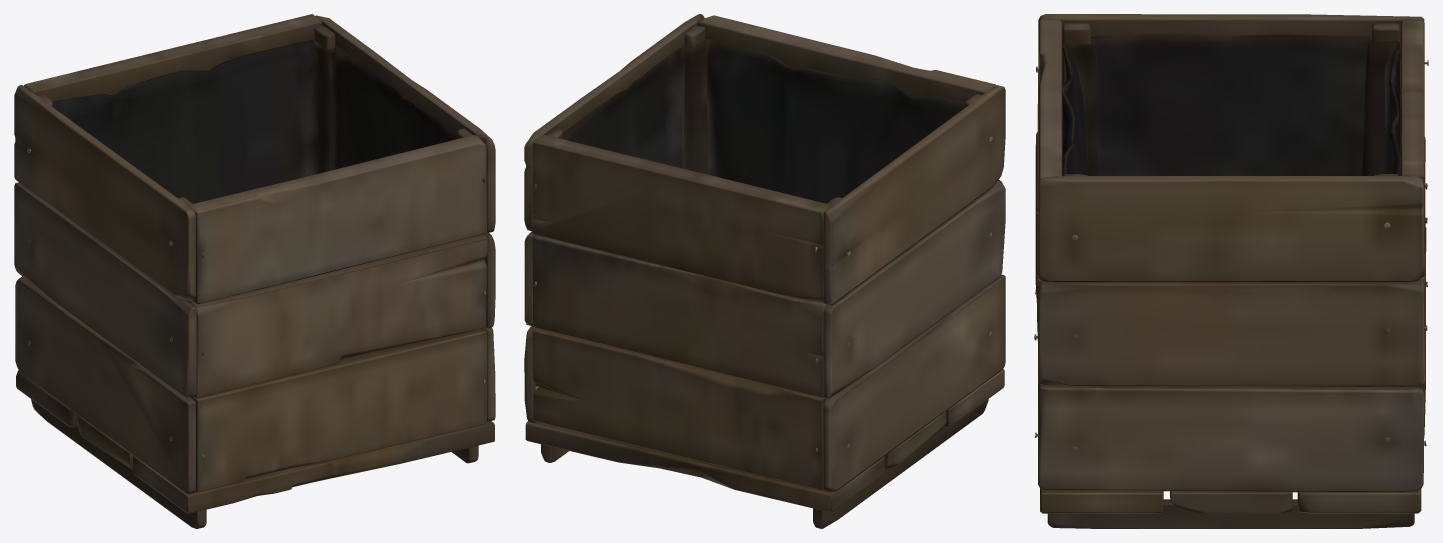
The model's file is ph-planter-box-01.glb.
3 renders of one model, left to right at view 1: azimuth 30°, elevation 25°; view 2: azimuth 150°, elevation 25°; view 3: azimuth 270°, elevation 25°, orthographic. The views are drawn at different scales.
Visible parts, largest first — view 1: planter_box_01; view 2: planter_box_01; view 3: planter_box_01.
Boxes of the visible parts, x1,y1,x2,y2 form: planter_box_01: [14, 14, 495, 528]; planter_box_01: [524, 14, 1005, 528]; planter_box_01: [1034, 14, 1428, 528].
Size of the model in its own units: 1 by 1 by 1.
Materials: 1 (1 with a texture image).
